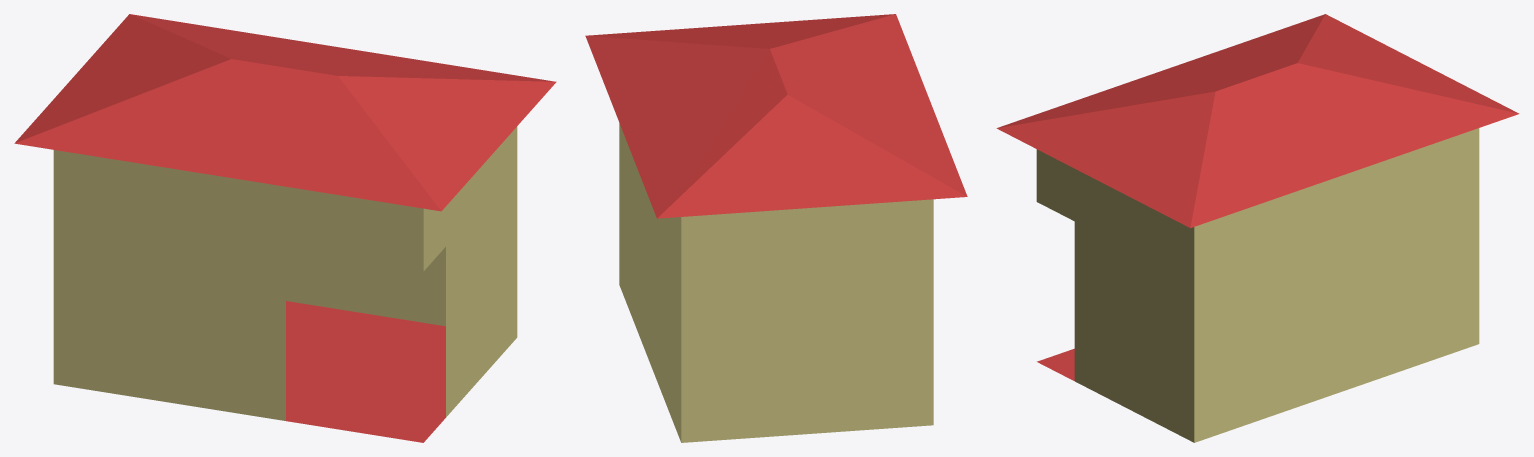
The picture shows the model from 3 angles, left to right: view 1: azimuth 30°, elevation 25°; view 2: azimuth 150°, elevation 25°; view 3: azimuth 270°, elevation 25°; orthographic projection. The views are drawn at different scales.
Size of the model in its own units: 17.68 by 18.26 by 10.58.
